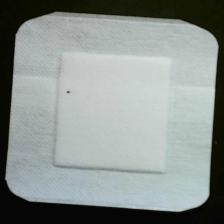Dressing: (5, 10, 221, 216)
F_Body: (61, 87, 84, 104)
